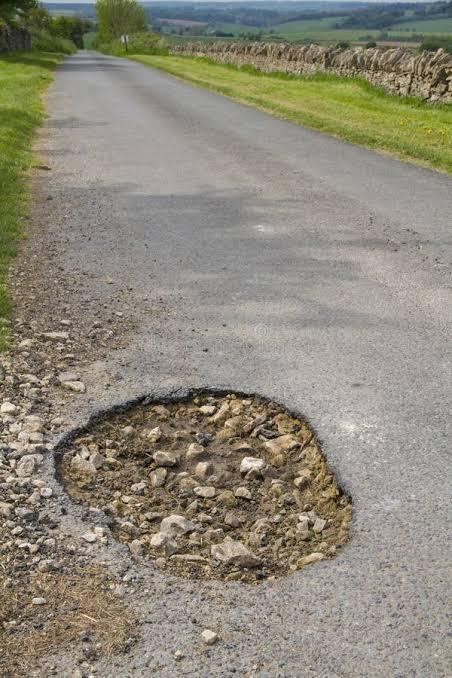D10: (49, 115, 89, 132), (196, 193, 235, 210), (37, 146, 78, 159)
D20: (329, 257, 357, 283), (164, 361, 200, 379)
D40: (42, 364, 326, 604)
